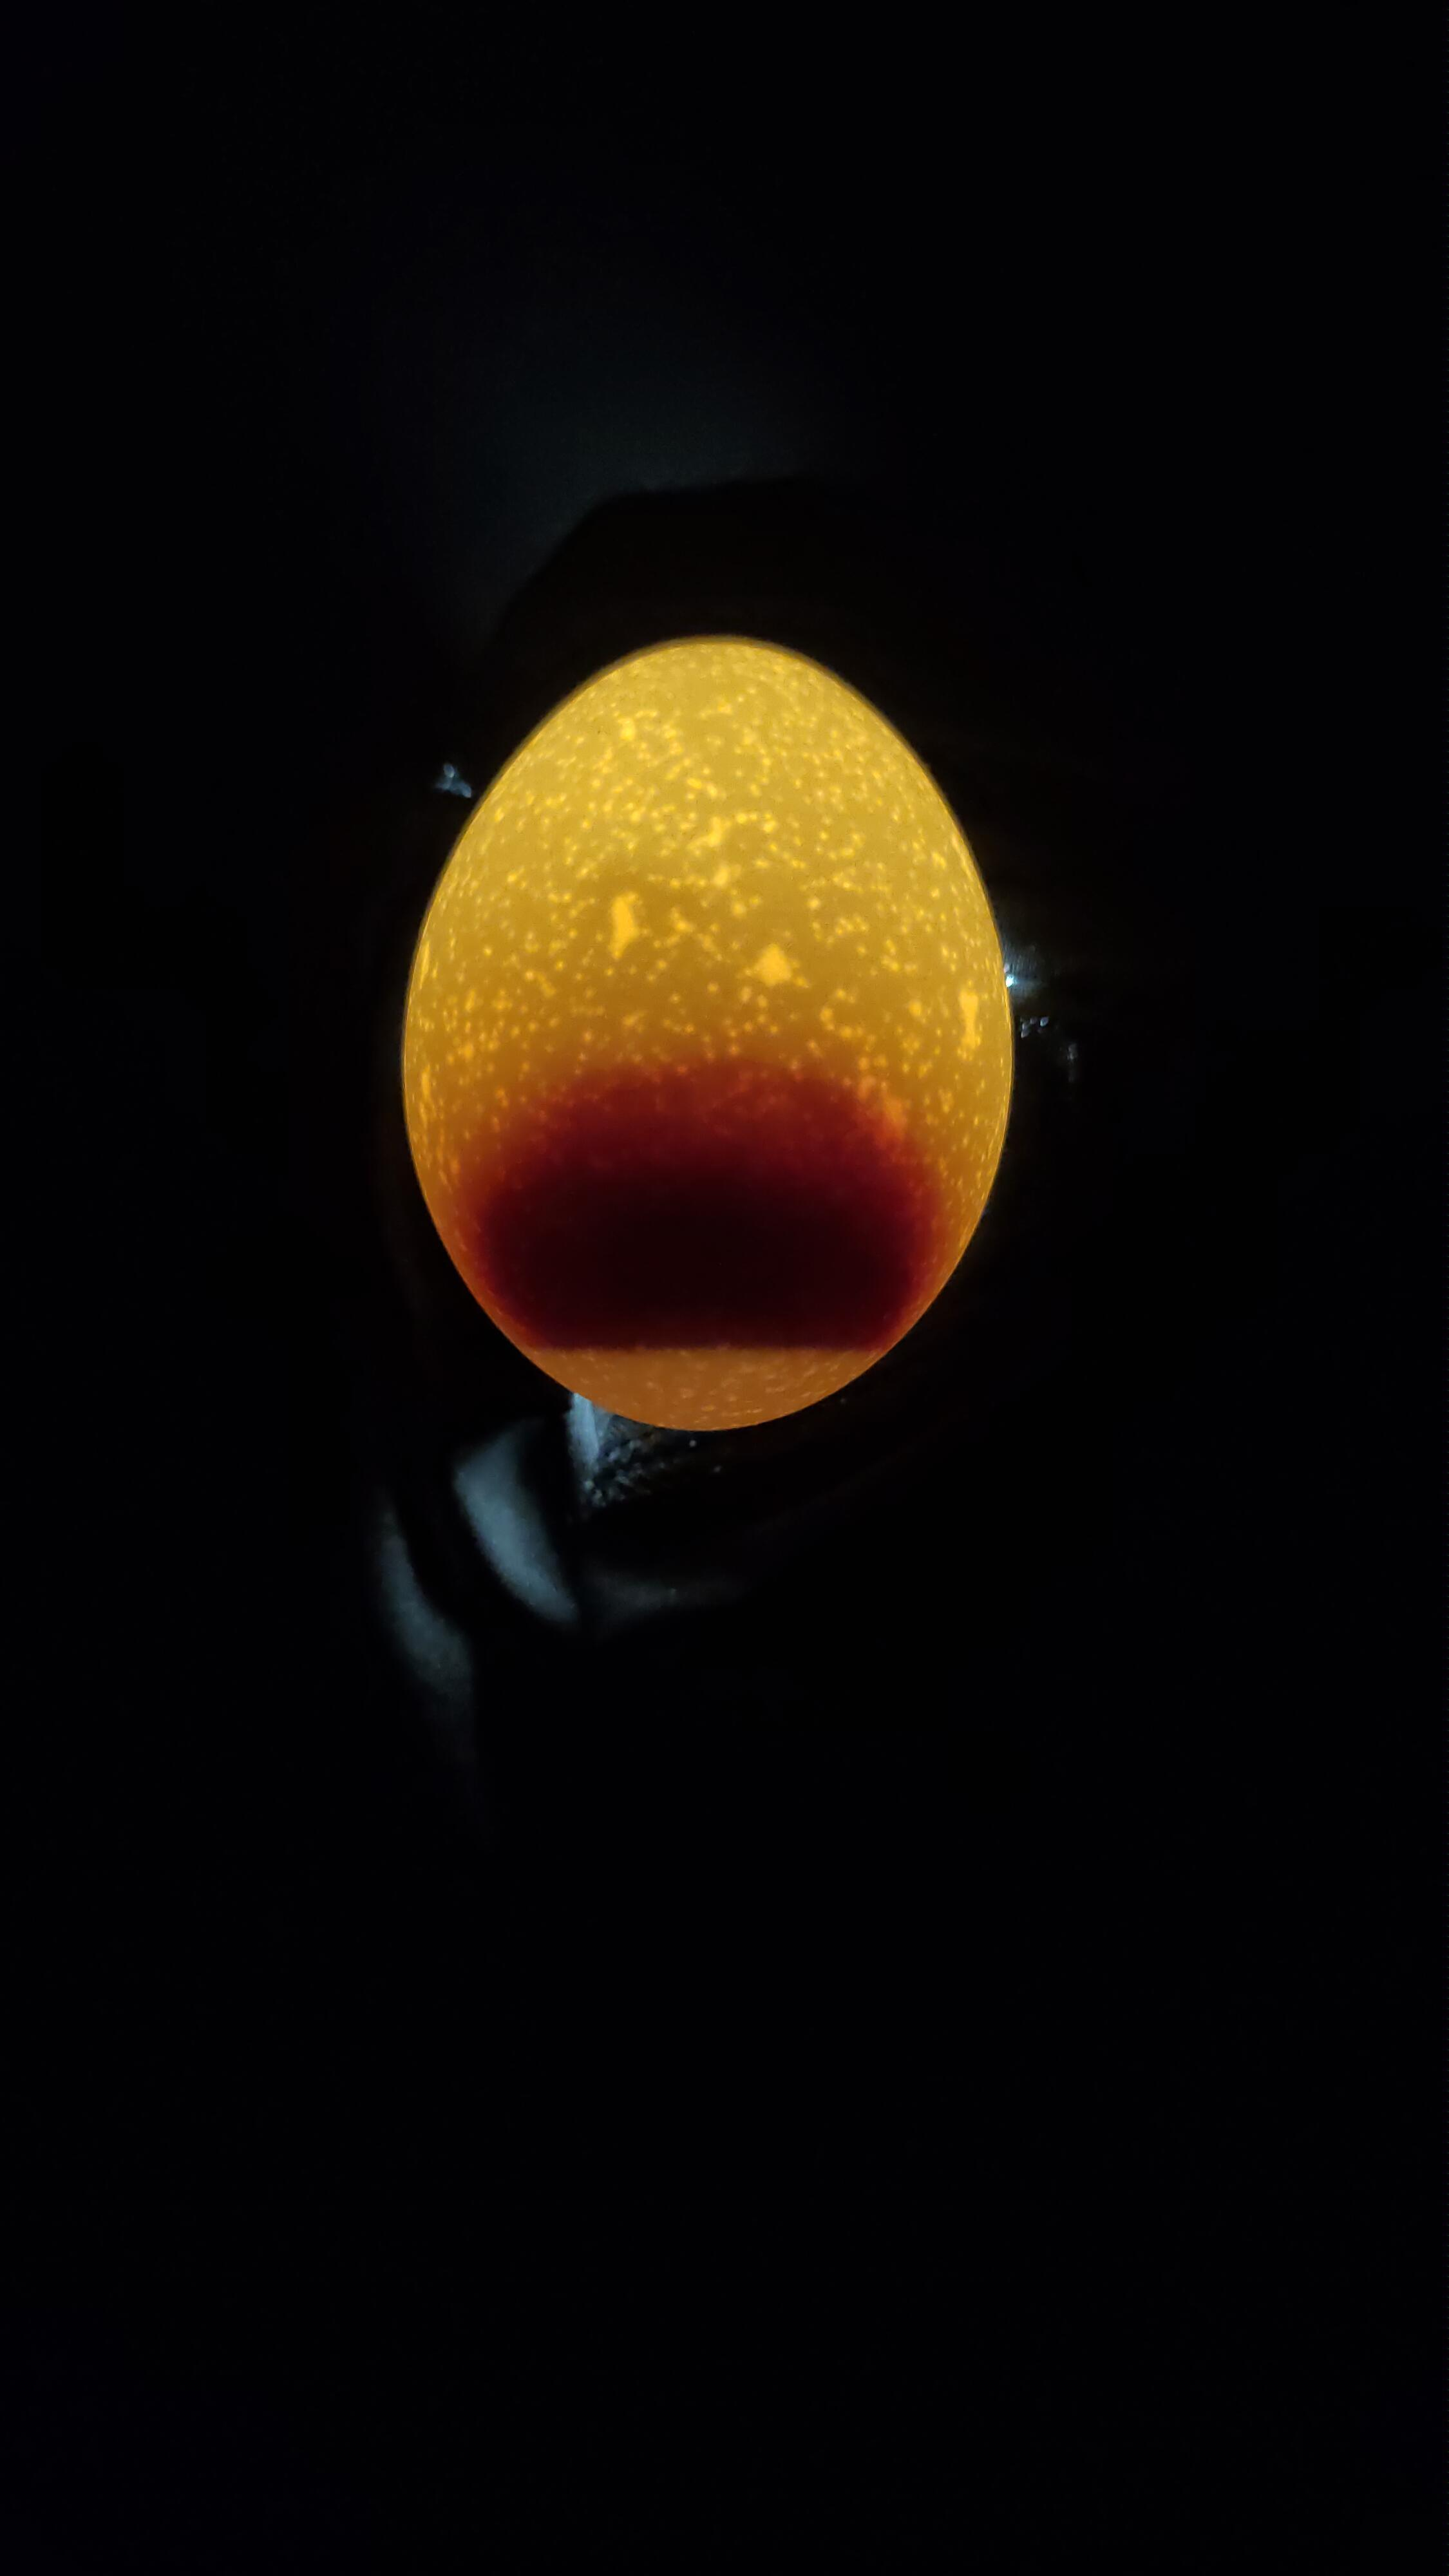AA - Premium: (377, 589, 1079, 1472)
